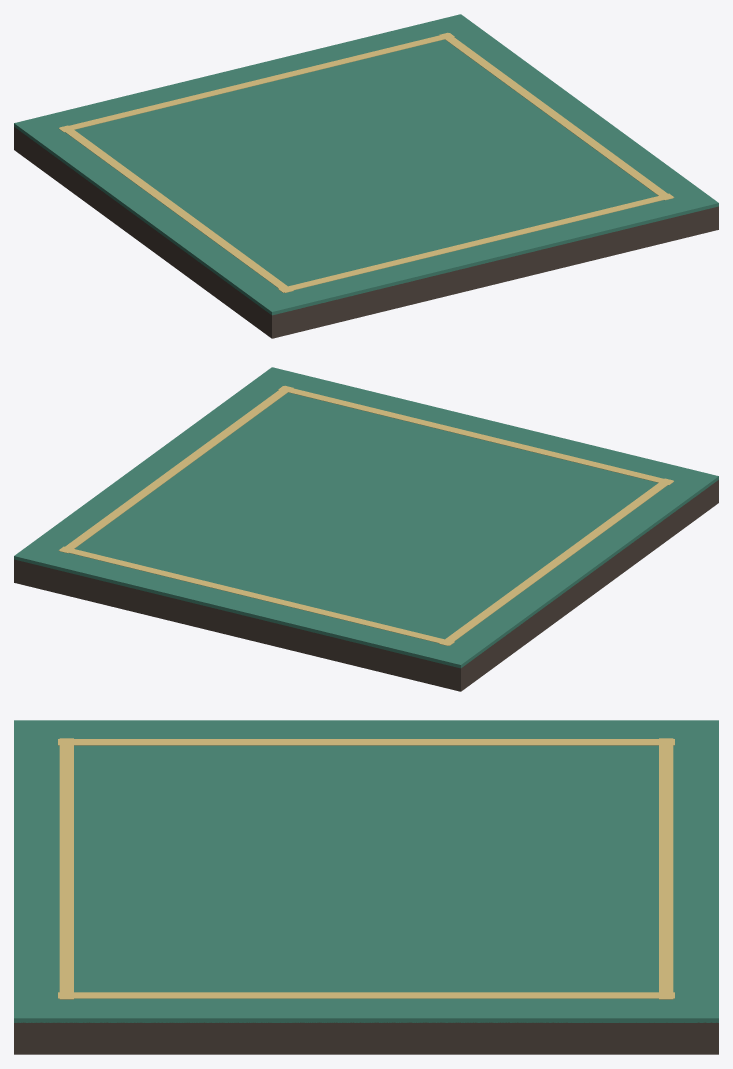
Rendered from floor_ex_carpet.glb.
3 renders of one model, top to bottom at view 1: azimuth 30°, elevation 25°; view 2: azimuth 150°, elevation 25°; view 3: azimuth 270°, elevation 25°, orthographic. The views are drawn at different scales.
Parts seen in each view (by area): view 1: floor_ex_carpet; view 2: floor_ex_carpet; view 3: floor_ex_carpet.
Boxes of the visible parts, x1,y1,x2,y2 form: floor_ex_carpet: [14, 14, 718, 338]; floor_ex_carpet: [14, 367, 718, 691]; floor_ex_carpet: [14, 720, 718, 1054].
Size of the model in its own units: 4 by 0.232 by 4.
